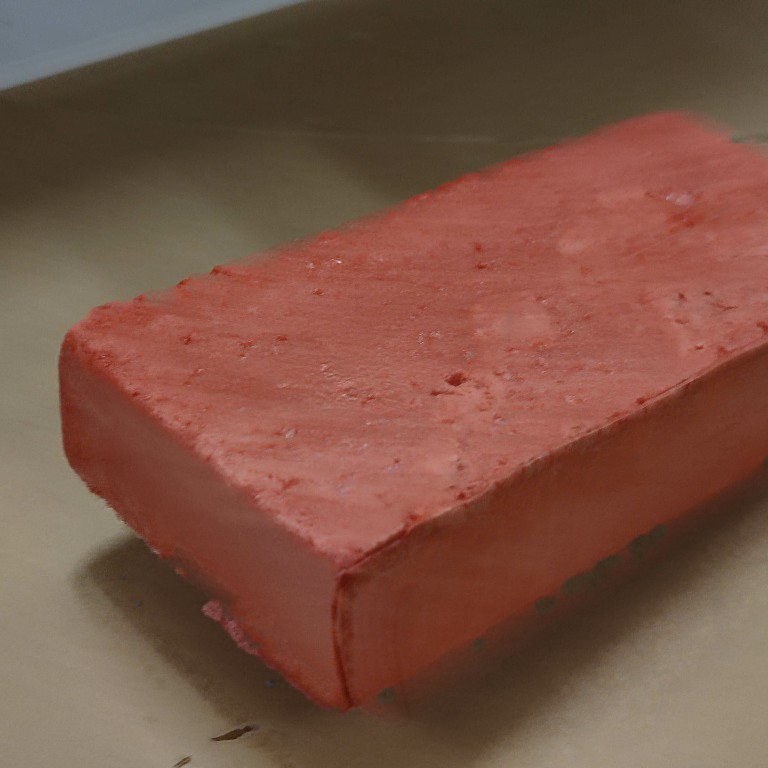brick: (51, 102, 768, 717)
